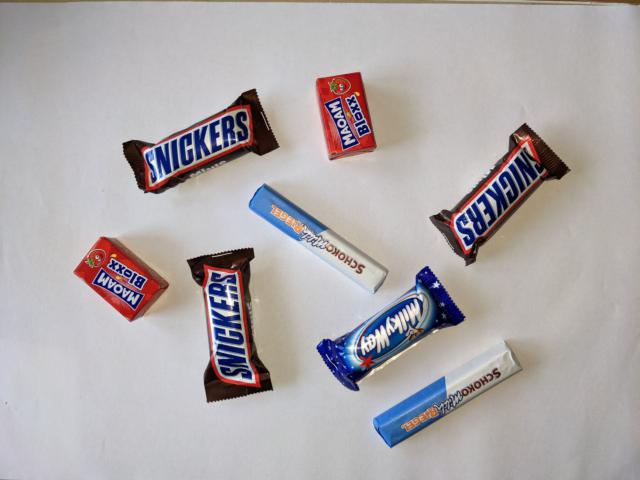MAOAM: (70, 234, 172, 323), (312, 68, 380, 163)
MilkyWay: (314, 264, 470, 394)
Schokoriegel: (369, 337, 526, 451), (247, 181, 393, 297)
Snickers: (426, 120, 573, 269), (118, 86, 282, 197), (183, 245, 277, 405)
